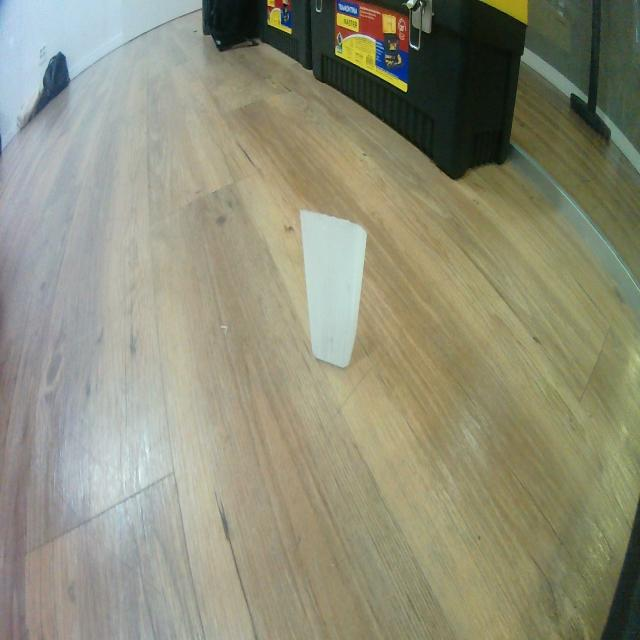erva_daninha: (300, 208, 367, 369)
